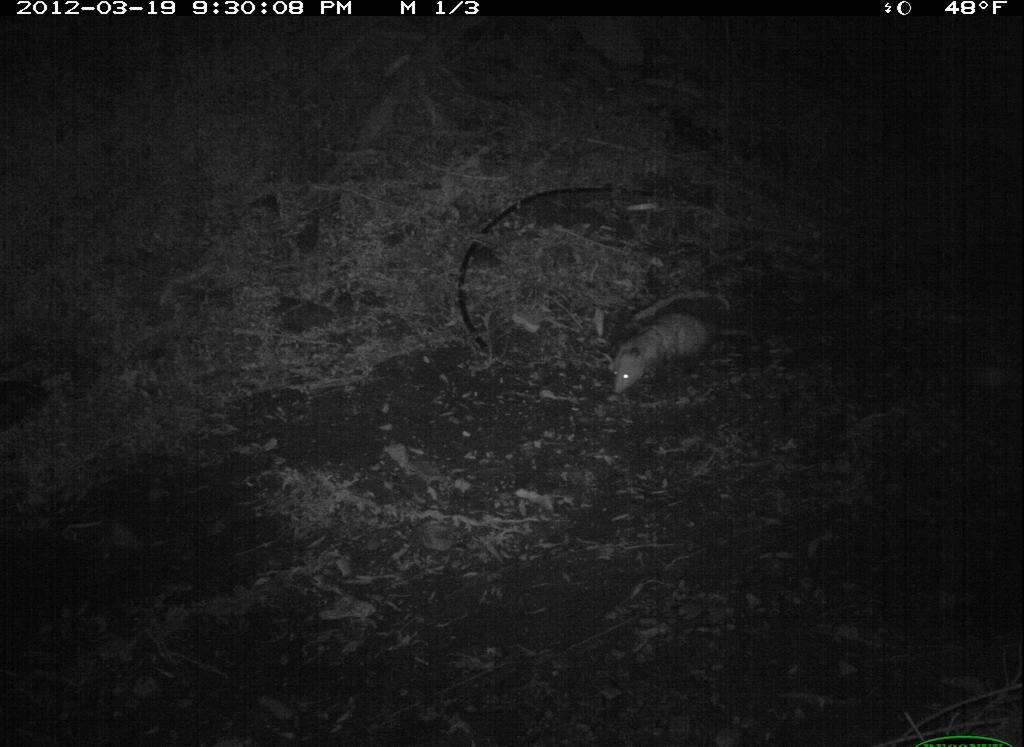opossum: (602, 306, 780, 411)
